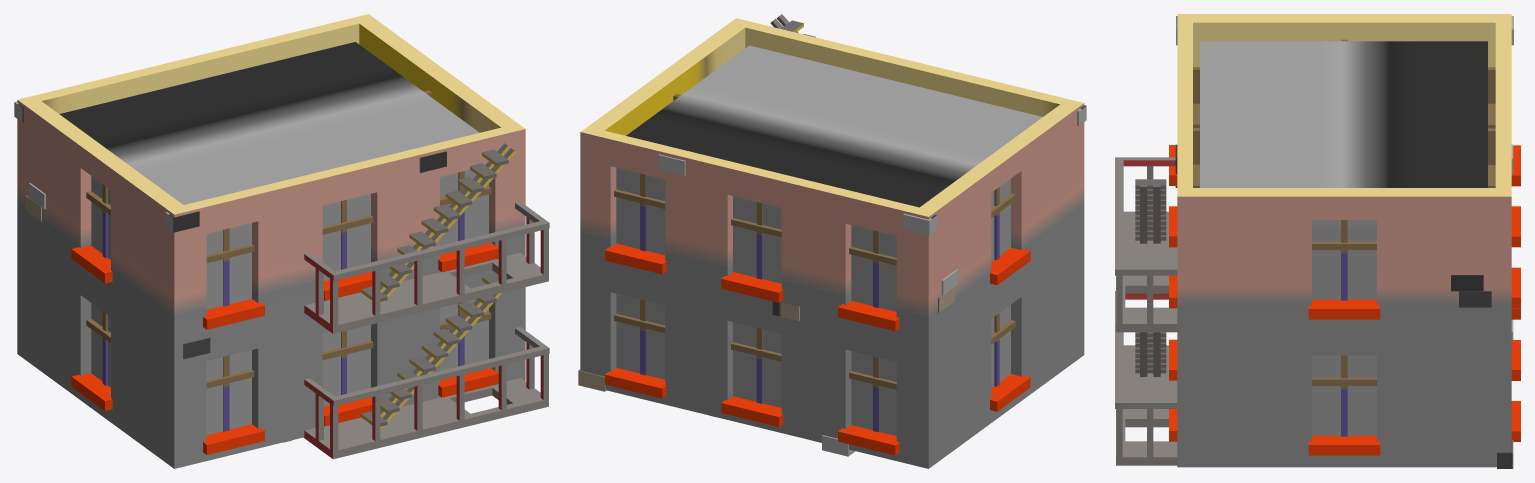
Rendered from House3_mid.fbx.
3 renders of one model, left to right at view 1: azimuth 30°, elevation 25°; view 2: azimuth 150°, elevation 25°; view 3: azimuth 270°, elevation 25°, orthographic. The views are drawn at different scales.
Parts seen in each view (by area): view 1: polySurface300, polySurface303, polySurface368, polySurface157, polySurface160, polySurface181, polySurface239, polySurface233, polySurface178, polySurface169, polySurface172, polySurface253; view 2: polySurface300, polySurface303, polySurface202, polySurface205, polySurface193, polySurface190, polySurface214, polySurface217, polySurface239, polySurface233, polySurface266; view 3: polySurface300, polySurface303, polySurface368, polySurface242, polySurface236, polySurface238, polySurface244, polySurface282, polySurface281, polySurface243, polySurface237.
Part boxes in pixels (x1=…): polySurface300: x1=17, y1=14, x2=525, y2=468; polySurface303: x1=59, y1=42, x2=479, y2=442; polySurface368: x1=303, y1=143, x2=549, y2=459; polySurface157: x1=203, y1=299, x2=264, y2=329; polySurface160: x1=203, y1=424, x2=264, y2=454; polySurface181: x1=438, y1=368, x2=498, y2=397; polySurface239: x1=71, y1=373, x2=112, y2=410; polySurface233: x1=71, y1=245, x2=112, y2=283; polySurface178: x1=438, y1=243, x2=498, y2=272; polySurface169: x1=324, y1=272, x2=372, y2=300; polySurface172: x1=324, y1=397, x2=372, y2=426; polySurface253: x1=165, y1=211, x2=199, y2=232; polySurface300: x1=580, y1=18, x2=1084, y2=468; polySurface303: x1=626, y1=45, x2=1042, y2=416; polySurface202: x1=721, y1=272, x2=783, y2=302; polySurface205: x1=721, y1=396, x2=783, y2=426; polySurface193: x1=605, y1=368, x2=666, y2=398; polySurface190: x1=605, y1=243, x2=666, y2=274; polySurface214: x1=838, y1=301, x2=899, y2=331; polySurface217: x1=838, y1=425, x2=899, y2=455; polySurface239: x1=990, y1=374, x2=1030, y2=411; polySurface233: x1=990, y1=247, x2=1030, y2=285; polySurface266: x1=903, y1=213, x2=936, y2=235; polySurface300: x1=1177, y1=14, x2=1511, y2=467; polySurface303: x1=1200, y1=41, x2=1487, y2=187; polySurface368: x1=1115, y1=157, x2=1177, y2=465; polySurface242: x1=1308, y1=435, x2=1380, y2=455; polySurface236: x1=1308, y1=299, x2=1380, y2=319; polySurface238: x1=1312, y1=241, x2=1376, y2=249; polySurface244: x1=1312, y1=377, x2=1376, y2=385; polySurface282: x1=1451, y1=275, x2=1483, y2=291; polySurface281: x1=1459, y1=291, x2=1491, y2=307; polySurface243: x1=1341, y1=355, x2=1347, y2=436; polySurface237: x1=1341, y1=220, x2=1347, y2=300.
Bounding box in the file's own units: 1414 × 978 × 1274.
